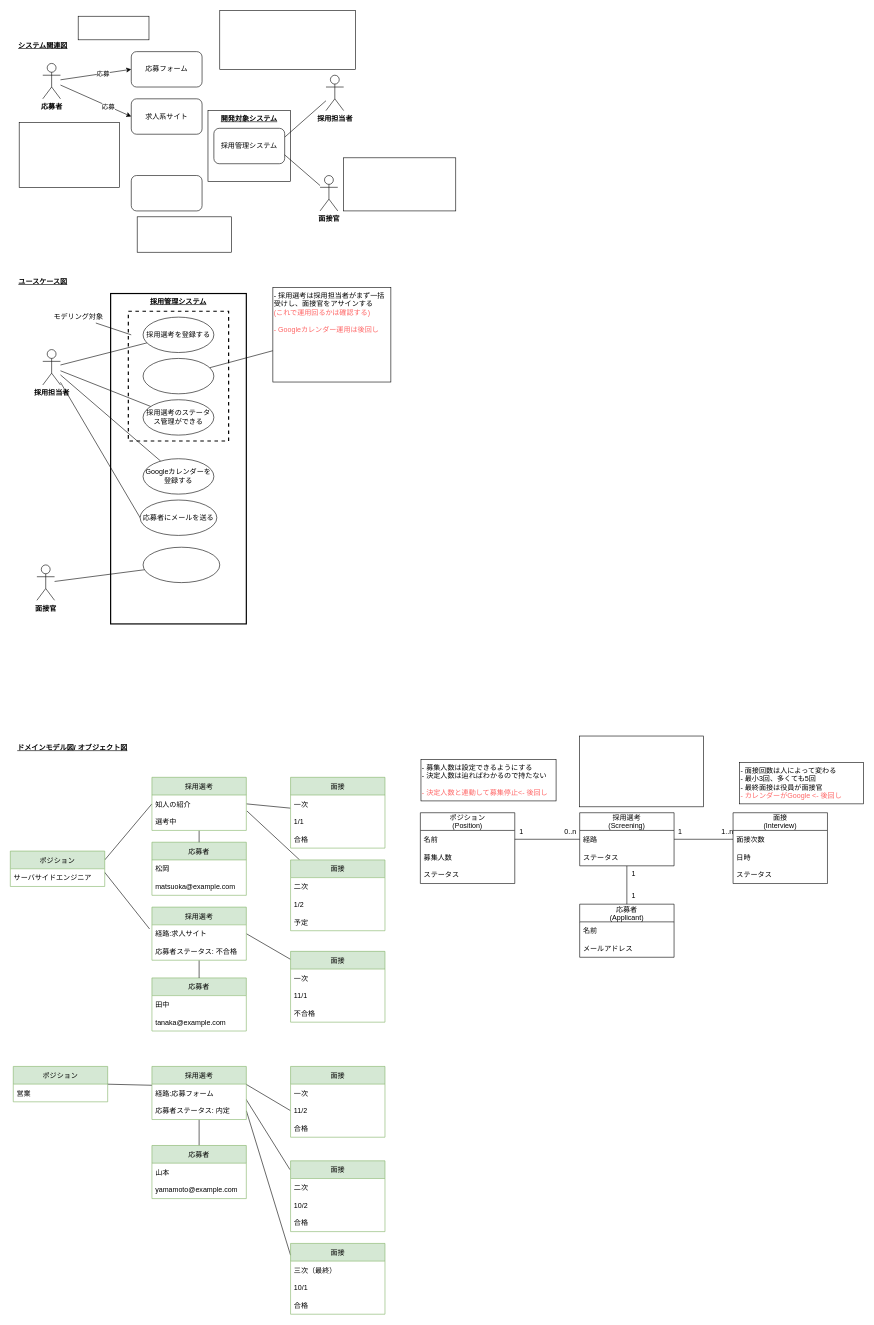
This 874x1325 diagram has some shape labels left out. The shapes that lost their labels are listed below. From the top down, each one's centre as x and y in pixels, then its label:
the point at 113,28: - 応募者使う？
the point at 287,39: - まずは採用選考情報を手入力から始める - 応募フォームからの自動連係は、採用管理システムの運用が回ってから検討する
the point at 69,154: - 応募経路は複数 - 求人ページ - 知人の紹介 - SNS -> 一旦、応募は採用管理システム外で行う
the point at 166,193: Google Calender
the point at 399,184: - 担当する応募者の情報を見る - 担当外は見れてはいけない
the point at 184,234: Google Calender連携は運用が回ってから作ることにする
the point at 178,376: 面接を設定する
the point at 181,565: 自担当の採用選考情報を参照する
the point at 641,771: - 入社する場合のステータスは 選考中-> 内定-> 内定承諾-> 入社 - 不合格の場合は 選考中-> 不合格 - 辞退などのパターンは後回し
